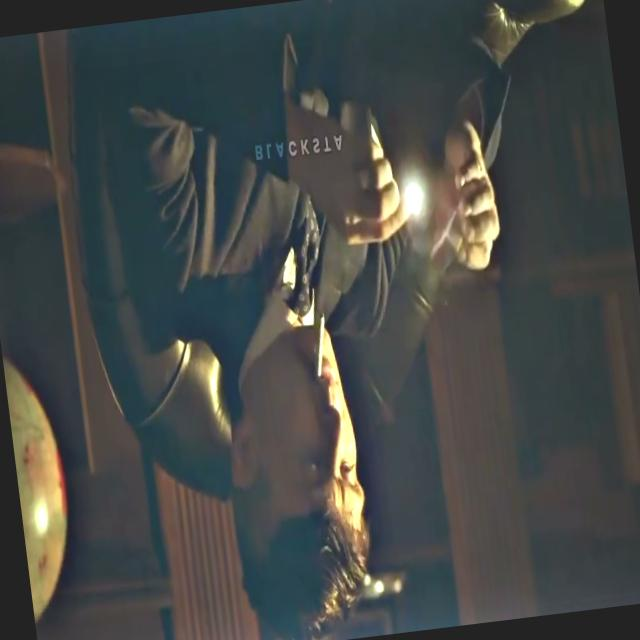smoke: (306, 298, 340, 378)
